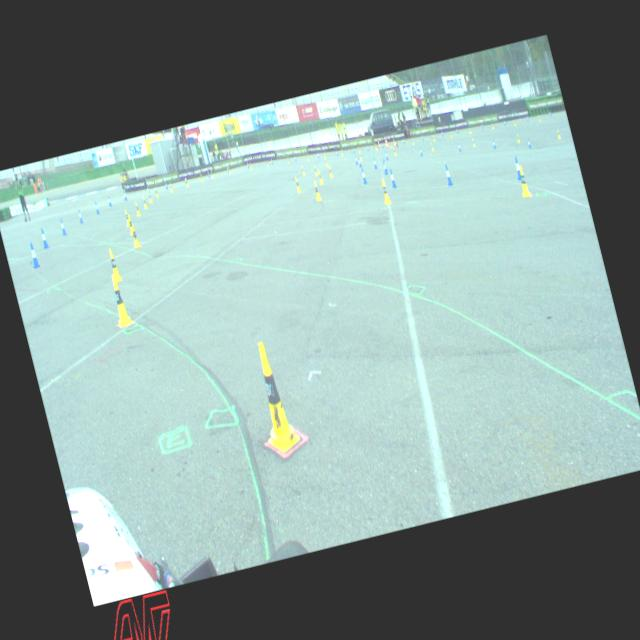blue_cone: (27, 242, 39, 268), (512, 156, 522, 180), (442, 164, 452, 185), (39, 227, 48, 248), (388, 168, 397, 188), (58, 217, 66, 236), (360, 167, 368, 184), (76, 208, 82, 224), (382, 160, 388, 174), (94, 201, 100, 214), (382, 157, 387, 170), (372, 158, 377, 168), (353, 154, 357, 164), (106, 195, 110, 205), (527, 138, 531, 148), (492, 138, 496, 148), (418, 146, 422, 156), (122, 190, 126, 199), (164, 180, 168, 189), (384, 150, 388, 159), (357, 157, 361, 166), (146, 184, 150, 193), (457, 142, 461, 150), (207, 170, 210, 178), (316, 150, 319, 158), (455, 126, 458, 134), (246, 160, 249, 168), (335, 149, 338, 156), (270, 157, 273, 164), (366, 144, 369, 150), (381, 142, 384, 148), (526, 115, 528, 122), (226, 165, 228, 172), (548, 110, 550, 116), (503, 119, 505, 125), (481, 122, 483, 128), (402, 138, 404, 144), (352, 147, 354, 153), (440, 130, 442, 136), (294, 154, 296, 160), (421, 134, 423, 140)
large_orange_cone: (376, 138, 381, 148), (392, 136, 396, 148), (384, 137, 388, 148)
yellow_cone: (244, 337, 303, 457), (107, 273, 133, 328), (105, 247, 122, 283), (516, 164, 530, 196), (128, 223, 140, 249), (379, 178, 390, 202), (312, 179, 322, 201), (126, 212, 135, 234), (294, 175, 300, 192), (134, 200, 140, 217), (124, 209, 130, 225), (316, 168, 322, 184), (142, 195, 148, 209), (328, 165, 333, 178), (146, 192, 152, 202), (154, 186, 158, 199), (392, 146, 397, 156), (323, 157, 328, 166), (556, 128, 560, 138), (358, 150, 362, 160), (184, 176, 188, 186), (169, 182, 173, 192), (312, 164, 316, 174), (516, 133, 520, 142), (300, 165, 304, 174), (200, 172, 203, 182), (431, 142, 434, 150), (210, 170, 213, 178), (449, 130, 452, 138), (432, 134, 435, 142), (389, 140, 392, 148), (287, 156, 290, 164), (306, 152, 309, 160), (323, 150, 326, 158), (537, 114, 540, 121), (513, 118, 516, 125), (468, 126, 471, 133), (491, 122, 494, 129), (374, 143, 377, 150), (411, 138, 414, 144), (249, 162, 252, 168), (472, 138, 474, 146), (340, 148, 342, 156), (358, 146, 360, 154), (266, 160, 268, 167), (228, 166, 230, 173)
